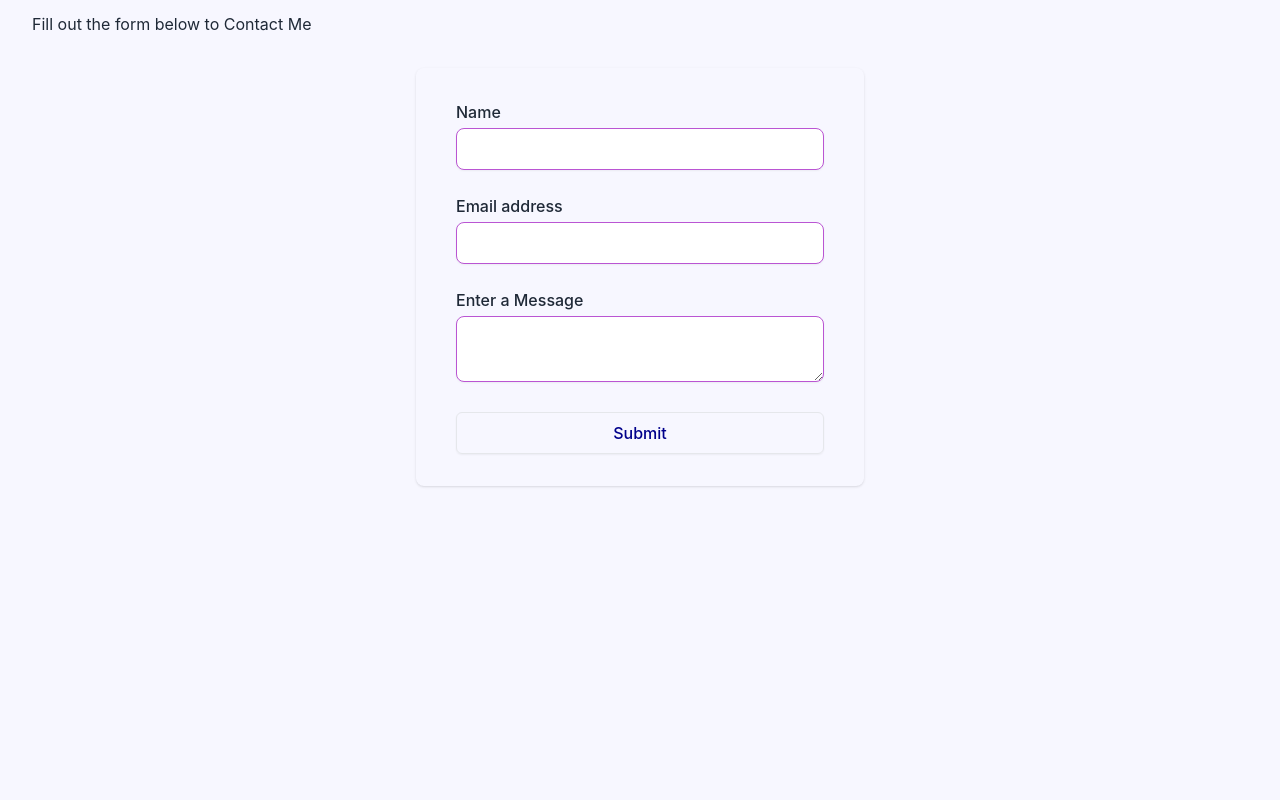
Test: Contact component › submits the form and opens modal
The width and height of the screenshot is (1280, 800).
# filling in the form and clicking submit
Type "John Doe" into the field labelled "Name" at (640, 149), box [456,128,824,170]
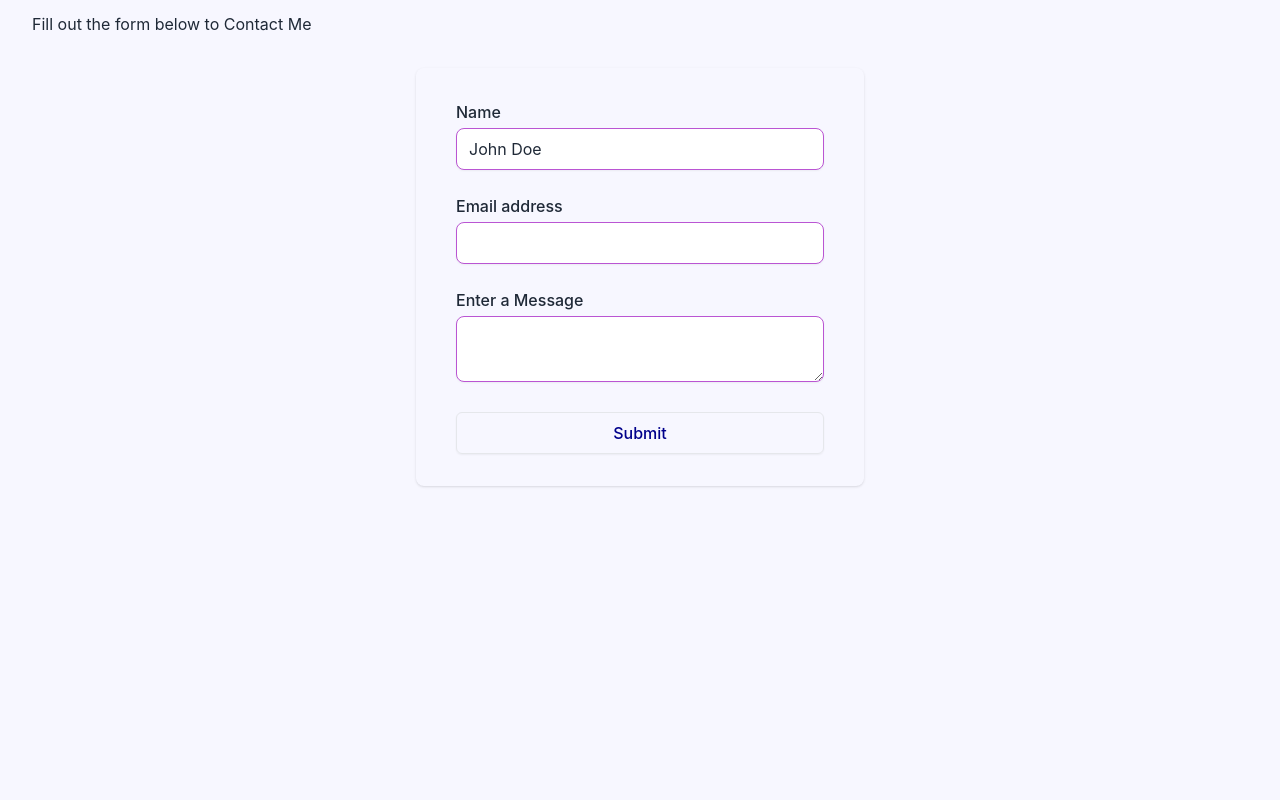
Type "john@example.com" into the field labelled "Email address" at (640, 243), box [456,222,824,264]
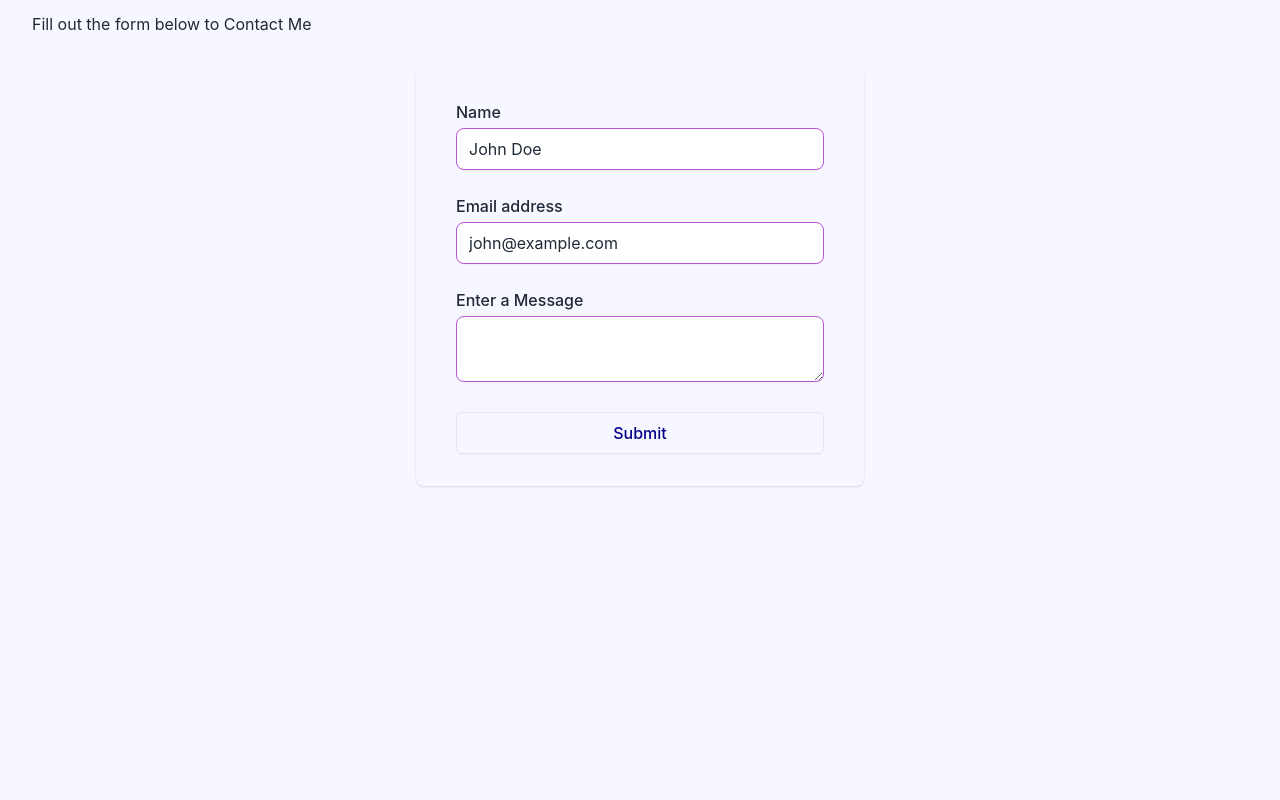
Type "Hello, World!" into the text box labelled "Enter a Message" at (640, 349), box [456,316,824,382]
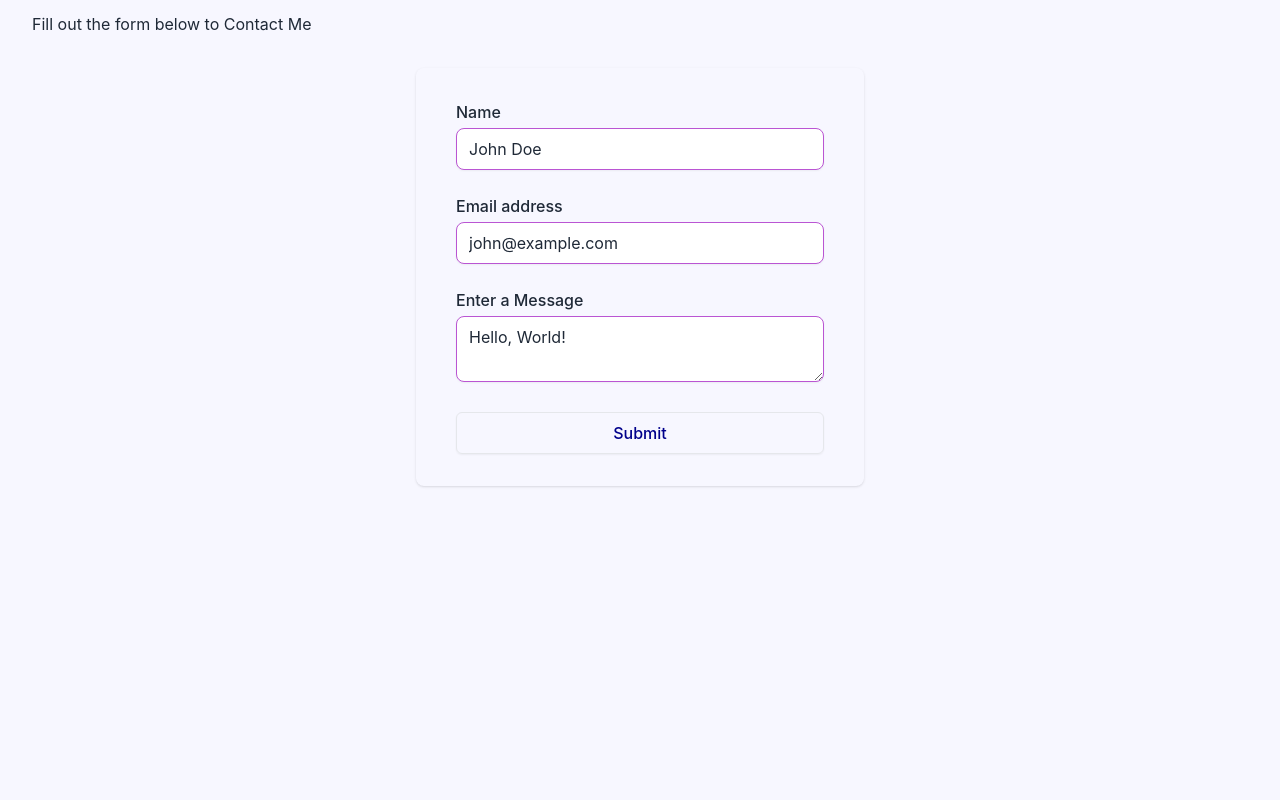
Click the button "Submit" at (640, 433), box [456,412,824,454]
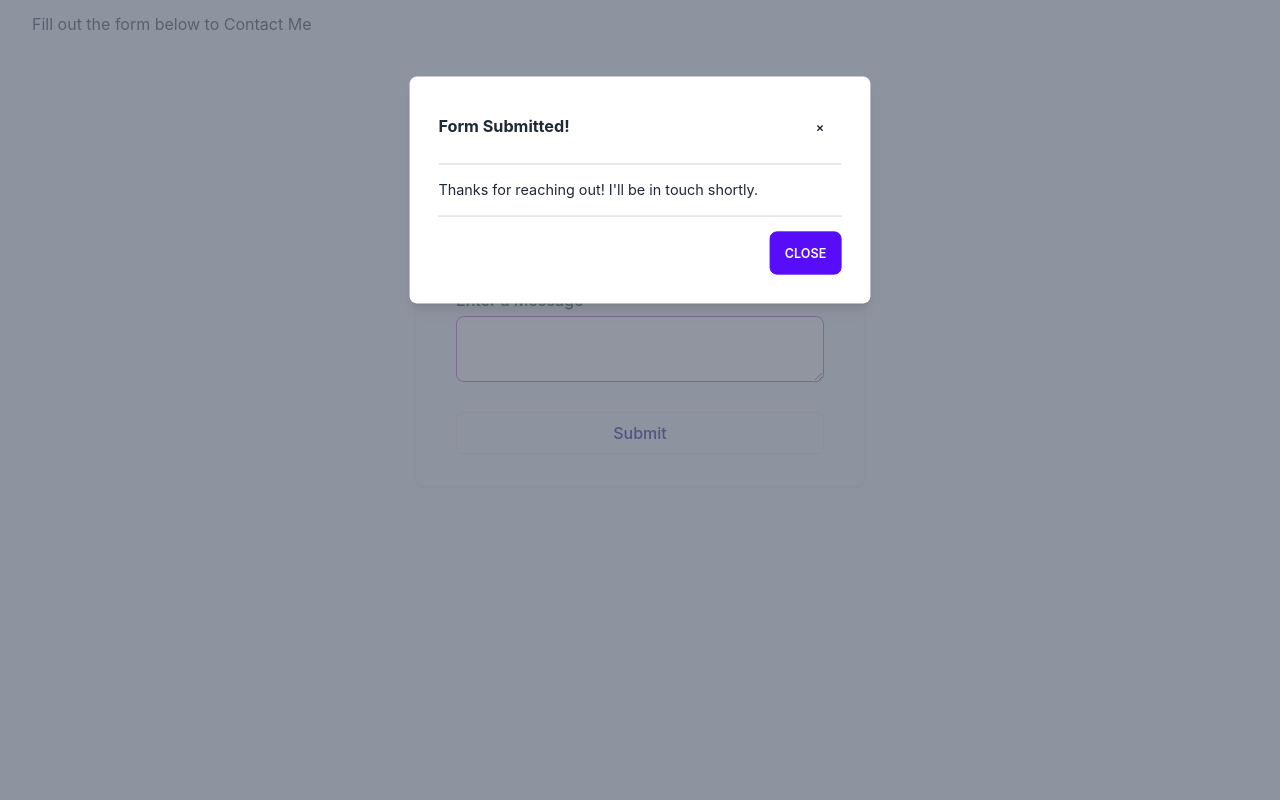
Now the element with test id "modal" is shown, box [410,77,870,303]
